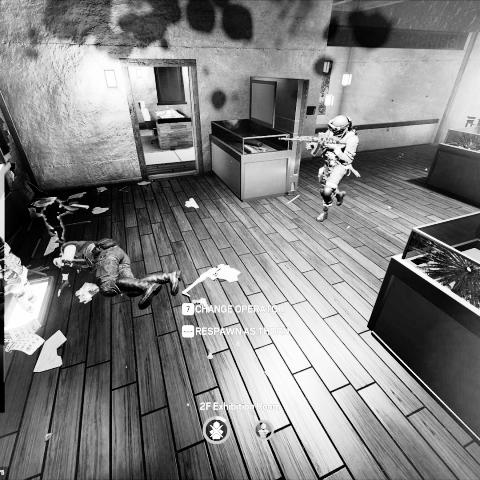Character: (52, 238, 182, 311), (278, 114, 361, 224)
Head: (328, 114, 352, 137), (52, 253, 63, 267)
